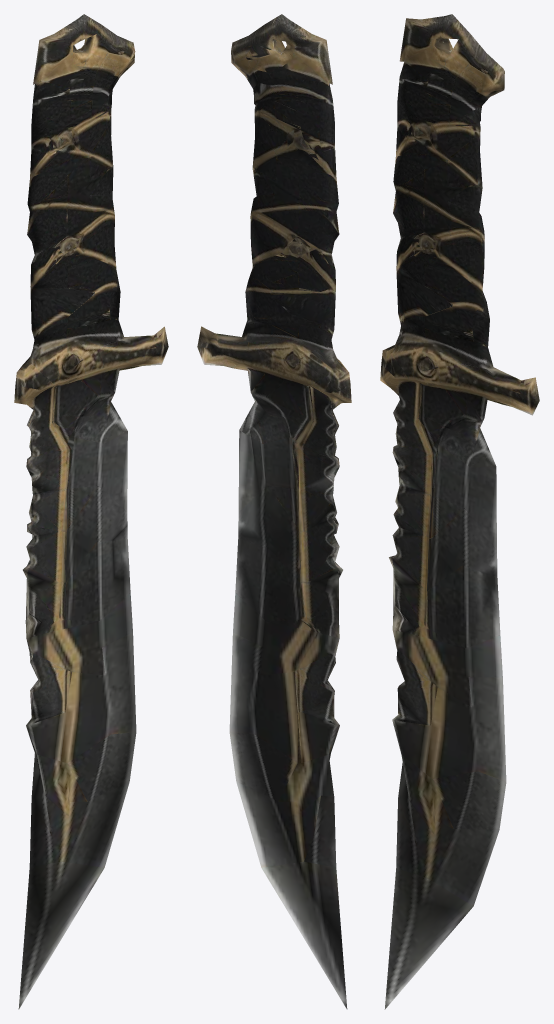
Rendered from g_knife_combat.glb.
The picture shows the model from 3 angles, left to right: view 1: azimuth 30°, elevation 25°; view 2: azimuth 150°, elevation 25°; view 3: azimuth 330°, elevation 25°; orthographic projection. The views are drawn at different scales.
Bounding box in the file's own units: 0.1568 × 0.9512 × 0.0248.
1 material, 1 textured.
